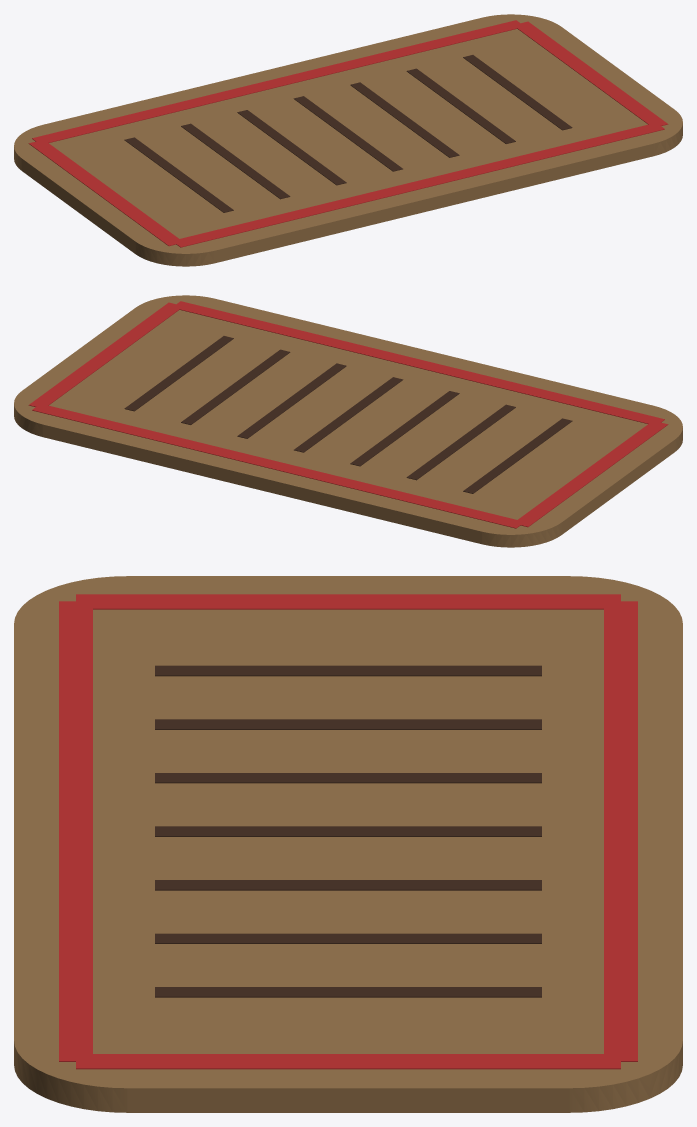
File: rugDoormat.glb
3 views of the same model, one above another, from view 1: azimuth 30°, elevation 25°; view 2: azimuth 150°, elevation 25°; view 3: azimuth 270°, elevation 25° (orthographic). The views are drawn at different scales.
Parts seen in each view (by area): view 1: rugDoormat(Clone); view 2: rugDoormat(Clone); view 3: rugDoormat(Clone).
Part boxes in pixels (x1,y1,x2,y2): rugDoormat(Clone): (14,14,682,266); rugDoormat(Clone): (14,295,682,547); rugDoormat(Clone): (14,576,682,1112).
Size of the model in its own units: 0.4293 by 0.01 by 0.237.
